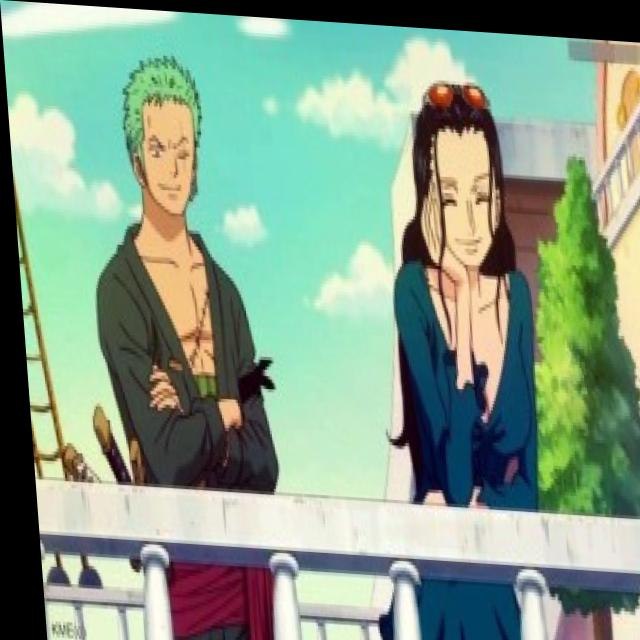Zoro: (385, 66, 514, 305), (105, 34, 216, 236)
